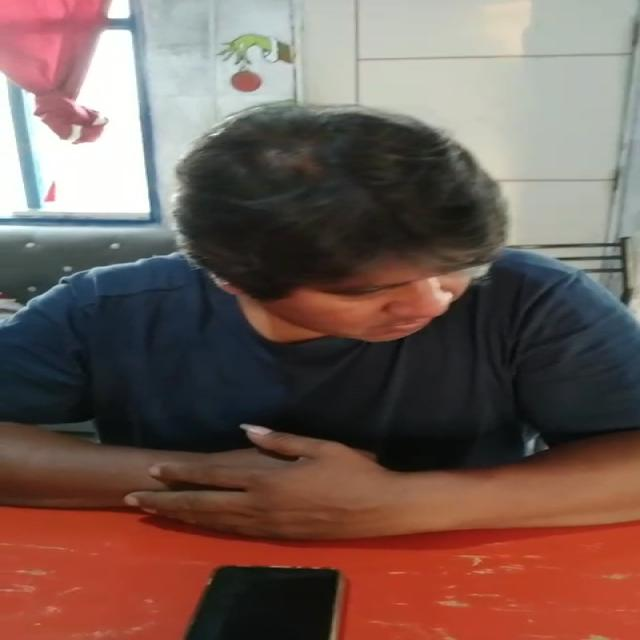9_cabeza_baja: (176, 107, 502, 341)
